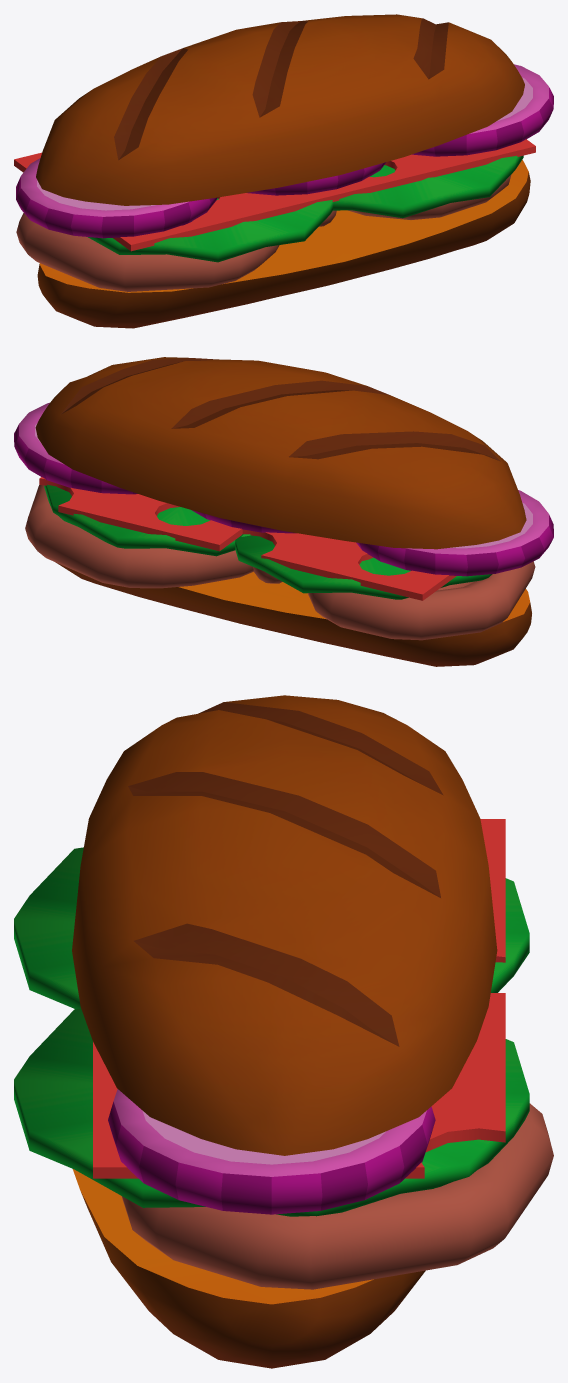
File: Sandwich_01.fbx
The picture shows the model from 3 angles, top to bottom: view 1: azimuth 30°, elevation 25°; view 2: azimuth 150°, elevation 25°; view 3: azimuth 270°, elevation 25°; orthographic projection. The views are drawn at different scales.
Visible parts, largest first — view 1: Sandwich_01; view 2: Sandwich_01; view 3: Sandwich_01.
Part boxes in pixels (box(x1,y1,x2,y2)): Sandwich_01: box(14, 14, 553, 328); Sandwich_01: box(14, 357, 553, 666); Sandwich_01: box(14, 695, 553, 1368).
Bounding box in the file's own units: 186 × 95.38 × 78.61.
